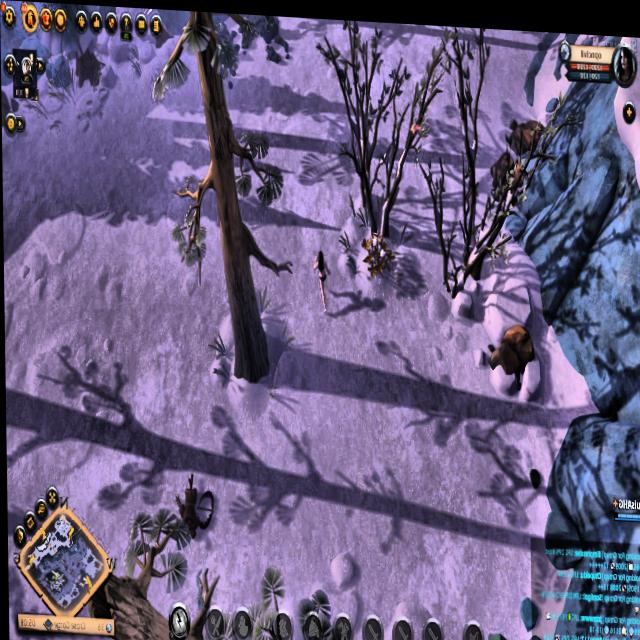cotton: (357, 219, 394, 282)
limestone: (484, 313, 536, 388)
